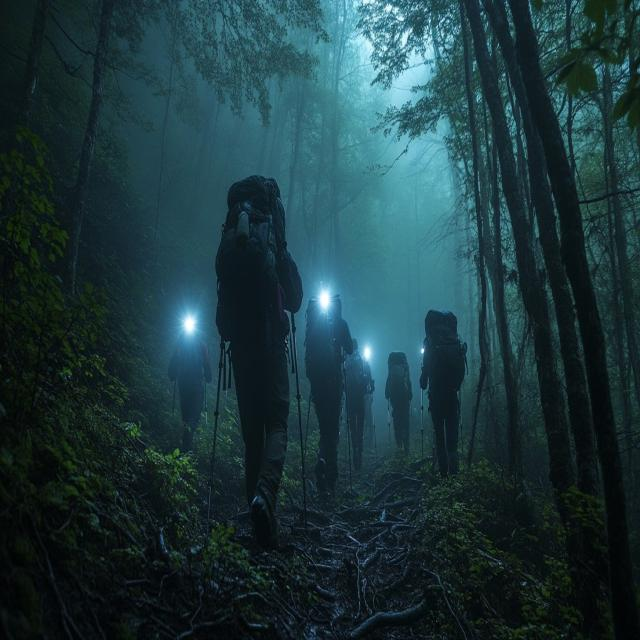Forest: (0, 0, 640, 640)
Militant: (202, 161, 318, 544), (413, 277, 476, 495), (296, 272, 351, 490), (161, 306, 218, 490), (340, 307, 377, 483), (382, 310, 417, 479)
